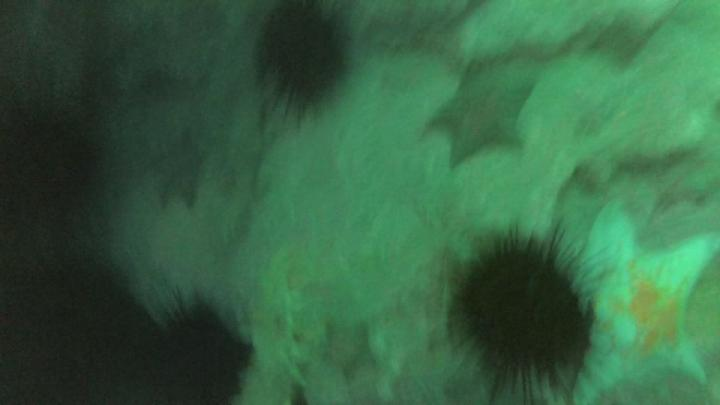echinus: (467, 246, 590, 380), (260, 3, 342, 106)
starfish: (571, 206, 720, 405), (427, 61, 536, 165)
